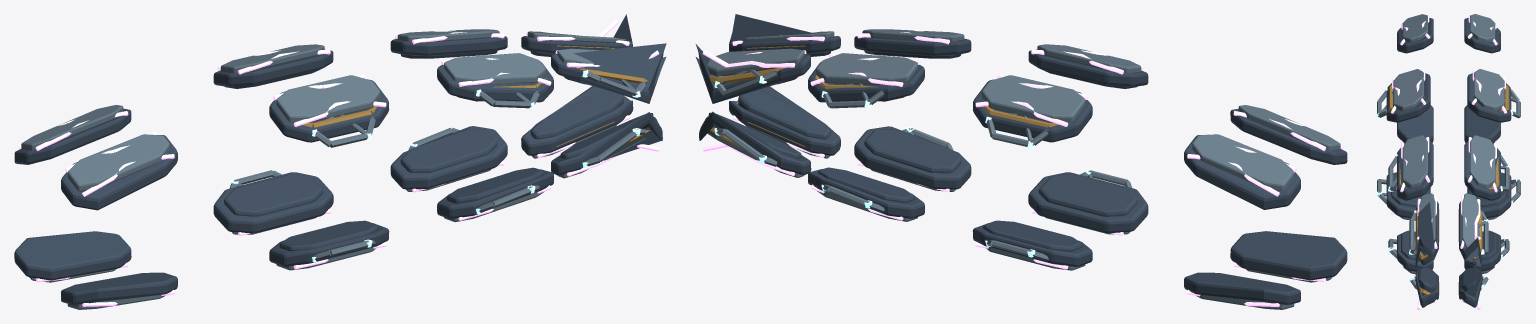
File: plating.glb
3 views of the same model, side by side, from view 1: azimuth 30°, elevation 25°; view 2: azimuth 150°, elevation 25°; view 3: azimuth 270°, elevation 25° (orthographic). The views are drawn at different scales.
Parts seen in each view (by area): view 1: p_heavy Fitting gunmetal, p_heavy Brushed fitting edges, p_aegis Fitting gunmetal, p_heavy p_heavy emitter, p_light Brushed fitting edges, p_aegis Champagne gold edging, p_light p_light emitter; view 2: p_heavy Fitting gunmetal, p_heavy Brushed fitting edges, p_aegis Fitting gunmetal, p_heavy p_heavy emitter, p_light Brushed fitting edges, p_aegis Champagne gold edging, p_light p_light emitter; view 3: p_heavy Fitting gunmetal, p_heavy Brushed fitting edges, p_light Brushed fitting edges, p_aegis Fitting gunmetal, p_heavy p_heavy emitter, p_aegis Champagne gold edging, p_light p_light emitter.
Part boxes in pixels (x1=…): p_heavy Fitting gunmetal: x1=14, y1=14, x2=666, y2=304; p_heavy Brushed fitting edges: x1=21, y1=29, x2=645, y2=309; p_aegis Fitting gunmetal: x1=224, y1=50, x2=653, y2=251; p_heavy p_heavy emitter: x1=18, y1=20, x2=659, y2=306; p_light Brushed fitting edges: x1=229, y1=69, x2=646, y2=260; p_aegis Champagne gold edging: x1=257, y1=45, x2=656, y2=148; p_light p_light emitter: x1=230, y1=70, x2=640, y2=262; p_heavy Fitting gunmetal: x1=696, y1=14, x2=1347, y2=304; p_heavy Brushed fitting edges: x1=707, y1=29, x2=1340, y2=309; p_aegis Fitting gunmetal: x1=708, y1=50, x2=1137, y2=251; p_heavy p_heavy emitter: x1=702, y1=30, x2=1343, y2=306; p_light Brushed fitting edges: x1=716, y1=67, x2=1131, y2=261; p_aegis Champagne gold edging: x1=710, y1=45, x2=1058, y2=166; p_light p_light emitter: x1=714, y1=75, x2=1093, y2=257; p_heavy Fitting gunmetal: x1=1386, y1=18, x2=1511, y2=307; p_heavy Brushed fitting edges: x1=1393, y1=14, x2=1504, y2=302; p_light Brushed fitting edges: x1=1377, y1=88, x2=1520, y2=288; p_aegis Fitting gunmetal: x1=1391, y1=173, x2=1506, y2=292; p_heavy p_heavy emitter: x1=1390, y1=14, x2=1507, y2=309; p_aegis Champagne gold edging: x1=1388, y1=85, x2=1509, y2=295; p_light p_light emitter: x1=1376, y1=88, x2=1521, y2=288.
Size of the model in its own units: 35.29 by 9.54 by 10.12.
